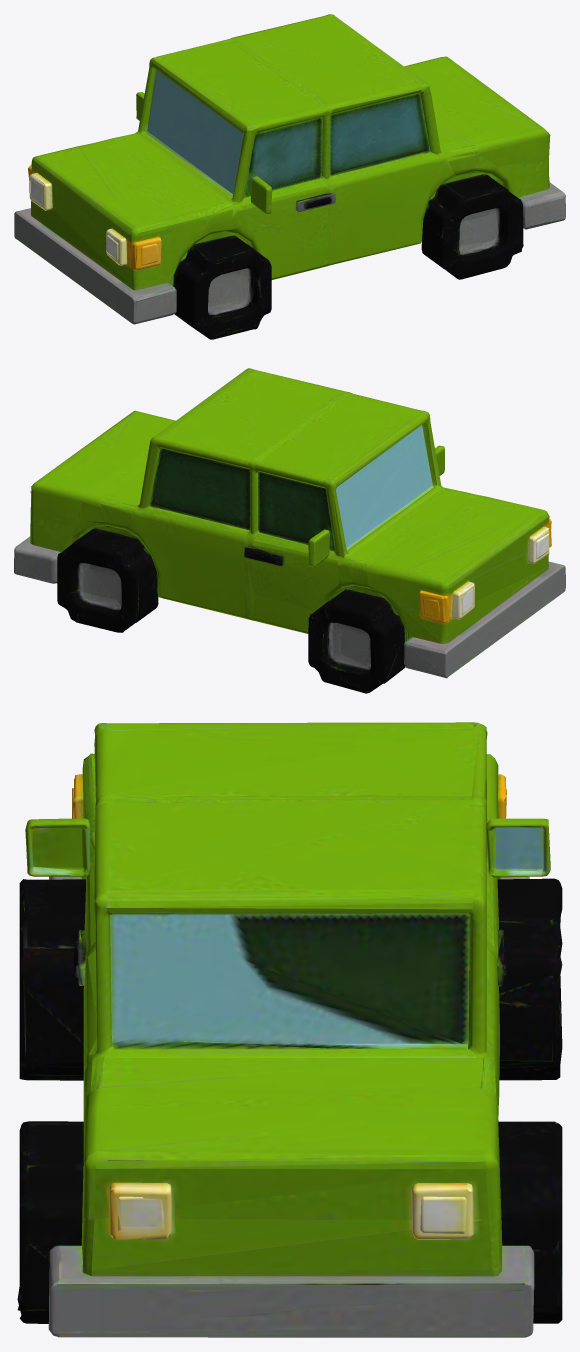
Rendered from wagon-lime.glb.
The picture shows the model from 3 angles, top to bottom: view 1: azimuth 30°, elevation 25°; view 2: azimuth 150°, elevation 25°; view 3: azimuth 270°, elevation 25°; orthographic projection. The views are drawn at different scales.
Size of the model in its own units: 1 by 0.4121 by 0.5469.
1 material, 1 textured.
